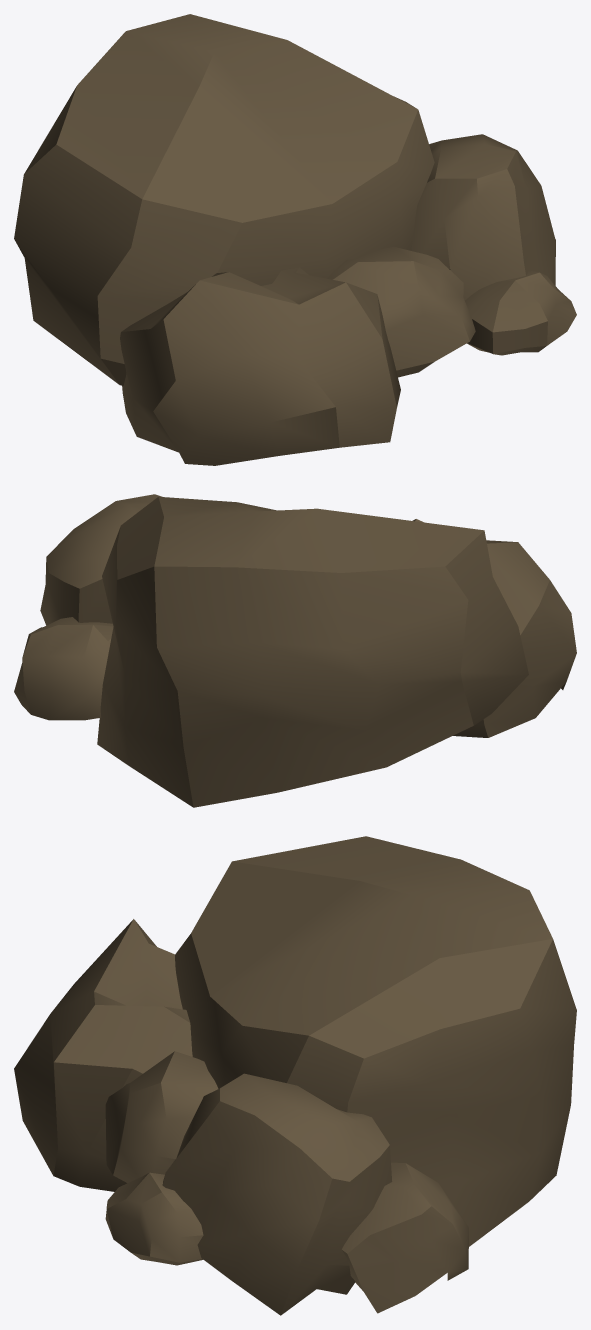
Rendered from rock_pile_1.fbx.
The picture shows the model from 3 angles, top to bottom: view 1: azimuth 30°, elevation 25°; view 2: azimuth 150°, elevation 25°; view 3: azimuth 270°, elevation 25°; orthographic projection. The views are drawn at different scales.
Visible parts, largest first — view 1: rock_pile_1; view 2: rock_pile_1; view 3: rock_pile_1.
Boxes of the visible parts, x1,y1,x2,y2 form: rock_pile_1: [14, 14, 576, 465]; rock_pile_1: [14, 494, 576, 807]; rock_pile_1: [14, 836, 576, 1315].
Size of the model in its own units: 254 by 137 by 238.
